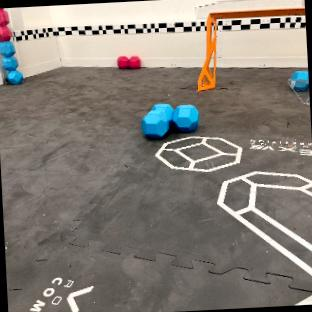V5_BLUE: (140, 103, 199, 137), (0, 41, 21, 82), (289, 70, 308, 90)
V5_RED: (0, 8, 11, 40), (128, 55, 140, 67), (116, 56, 127, 67)
